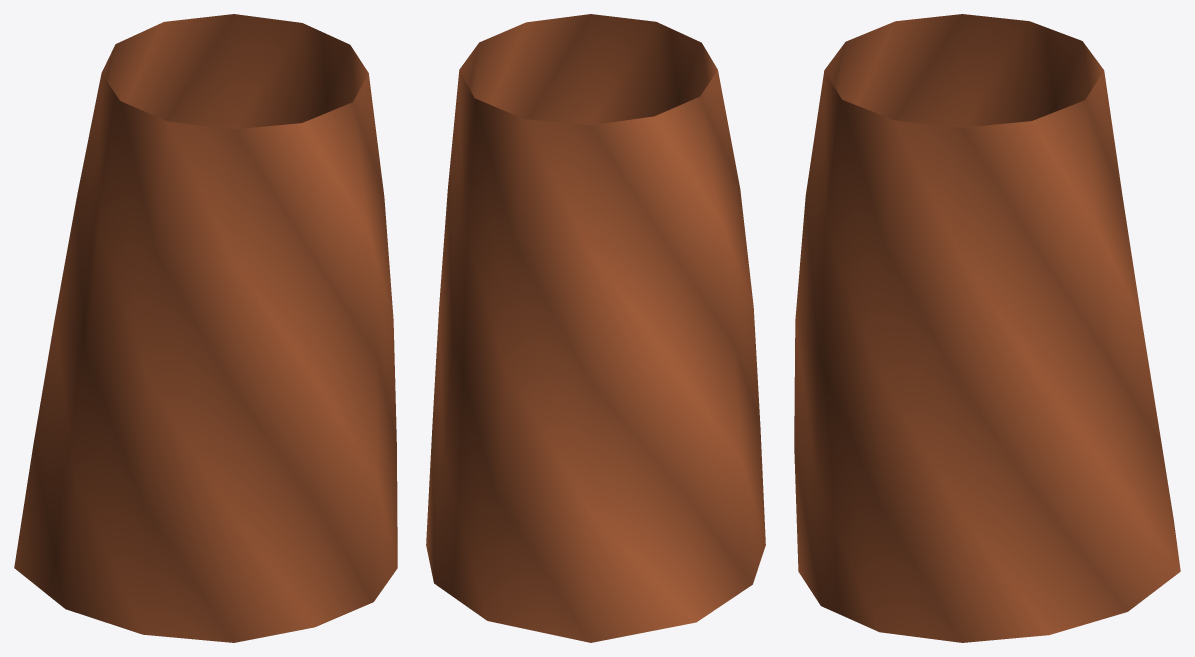
File: copper_armor_cuisse.R.glb
3 renders of one model, left to right at view 1: azimuth 30°, elevation 25°; view 2: azimuth 150°, elevation 25°; view 3: azimuth 270°, elevation 25°, orthographic. The views are drawn at different scales.
Visible parts, largest first — view 1: copper_armor_cuisse.R; view 2: copper_armor_cuisse.R; view 3: copper_armor_cuisse.R.
Part boxes in pixels (left/top/right/bottom): copper_armor_cuisse.R: left=14, top=14, right=397, bottom=642; copper_armor_cuisse.R: left=426, top=14, right=765, bottom=642; copper_armor_cuisse.R: left=794, top=14, right=1180, bottom=642.
Size of the model in its own units: 0.2449 by 0.37 by 0.2586.
